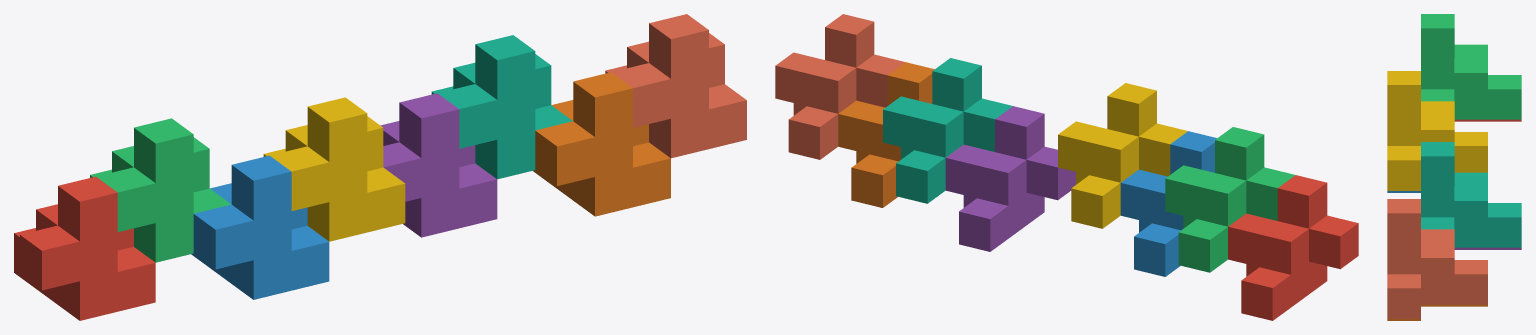
The model's file is tiling.obj.
3 renders of one model, left to right at view 1: azimuth 30°, elevation 25°; view 2: azimuth 150°, elevation 25°; view 3: azimuth 270°, elevation 25°, orthographic. The views are drawn at different scales.
Parts seen in each view (by area): view 1: copy_1_domain_1, copy_1_domain_2, copy_1_domain_6, copy_1_domain_4, copy_1_domain_8, copy_1_domain_7, copy_1_domain_3, copy_1_domain_5; view 2: copy_1_domain_1, copy_1_domain_5, copy_1_domain_8, copy_1_domain_3, copy_1_domain_4, copy_1_domain_7, copy_1_domain_6, copy_1_domain_2; view 3: copy_1_domain_8, copy_1_domain_3, copy_1_domain_7, copy_1_domain_4, copy_1_domain_6, copy_1_domain_1, copy_1_domain_5.
Part boxes in pixels (<box>): copy_1_domain_1: <box>14,176,155,320</box>; copy_1_domain_2: <box>191,155,329,299</box>; copy_1_domain_6: <box>533,72,670,216</box>; copy_1_domain_4: <box>263,97,405,241</box>; copy_1_domain_8: <box>605,14,746,158</box>; copy_1_domain_7: <box>431,35,572,179</box>; copy_1_domain_3: <box>90,118,231,262</box>; copy_1_domain_5: <box>380,93,497,237</box>; copy_1_domain_1: <box>1228,175,1358,320</box>; copy_1_domain_5: <box>945,106,1075,251</box>; copy_1_domain_8: <box>775,14,905,159</box>; copy_1_domain_3: <box>1165,127,1295,272</box>; copy_1_domain_4: <box>1058,83,1187,228</box>; copy_1_domain_7: <box>883,58,1012,203</box>; copy_1_domain_6: <box>838,62,934,207</box>; copy_1_domain_2: <box>1120,131,1216,276</box>; copy_1_domain_8: <box>1387,199,1487,318</box>; copy_1_domain_3: <box>1421,14,1521,119</box>; copy_1_domain_7: <box>1421,142,1521,247</box>; copy_1_domain_4: <box>1387,71,1487,190</box>; copy_1_domain_6: <box>1387,304,1487,320</box>; copy_1_domain_1: <box>1454,119,1521,121</box>; copy_1_domain_5: <box>1454,247,1521,249</box>.
Bounding box in the file's own units: 18 × 4 × 4.
